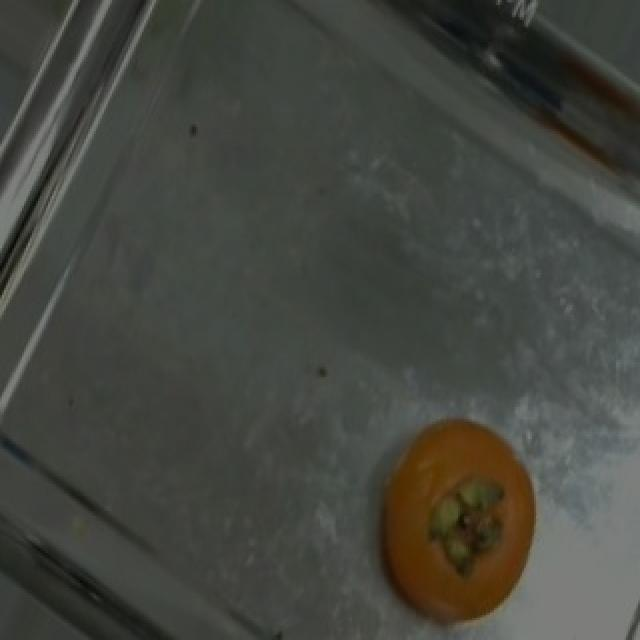Fruit: (356, 400, 562, 638)
